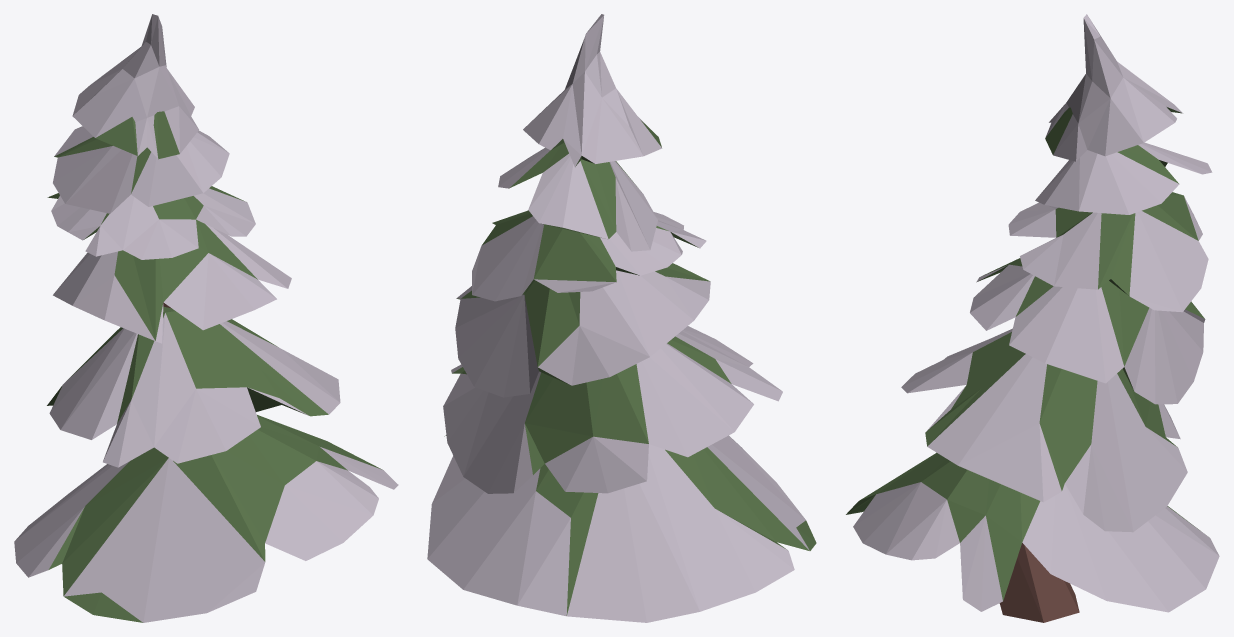
File: PineTree_Snow_3.lod2.glb
The picture shows the model from 3 angles, left to right: view 1: azimuth 30°, elevation 25°; view 2: azimuth 150°, elevation 25°; view 3: azimuth 270°, elevation 25°; orthographic projection. The views are drawn at different scales.
Visible parts, largest first — view 1: PineTree_Snow_3; view 2: PineTree_Snow_3; view 3: PineTree_Snow_3.
Boxes of the visible parts, box(x1,y1,x2,y2) form: PineTree_Snow_3: box(14, 14, 398, 622); PineTree_Snow_3: box(427, 14, 816, 622); PineTree_Snow_3: box(846, 14, 1219, 622).
Size of the model in its own units: 2.15 by 3.31 by 1.94.
